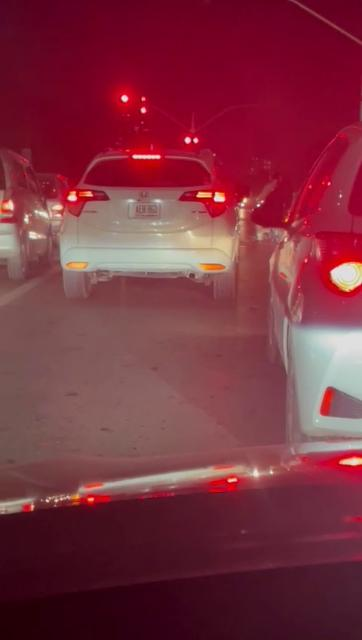plate: (128, 203, 161, 219)
